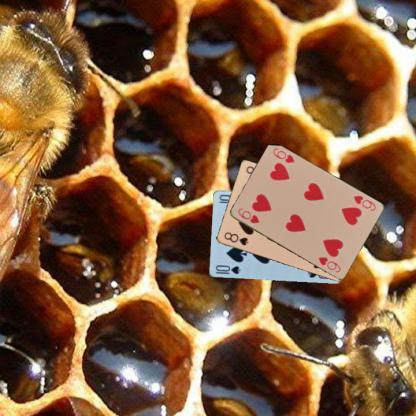10s: (213, 262, 242, 276)
6h: (350, 194, 378, 212), (235, 205, 260, 225)
8s: (221, 229, 249, 247)
